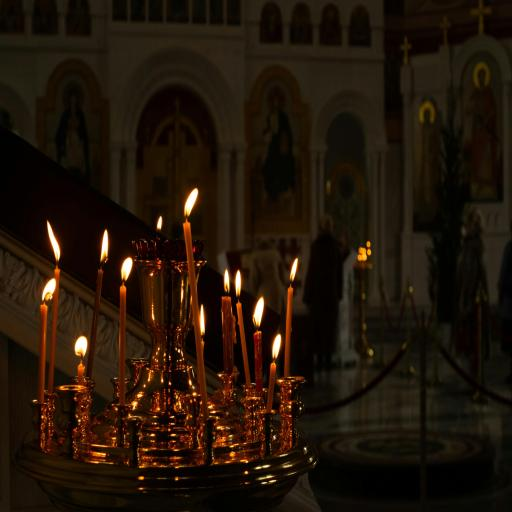candlelight: (179, 182, 210, 316), (40, 219, 62, 399), (88, 228, 108, 380), (118, 257, 132, 405), (283, 257, 297, 376), (252, 296, 267, 399), (235, 270, 247, 378), (264, 334, 280, 412), (222, 269, 232, 374), (38, 302, 47, 402), (199, 304, 206, 400), (76, 343, 86, 387), (156, 215, 162, 248)
